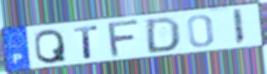0: (186, 13, 216, 48)
D: (145, 16, 182, 55)
F: (107, 18, 142, 59)
I: (231, 7, 246, 46)
Q: (34, 28, 69, 65)
T: (73, 24, 100, 60)
